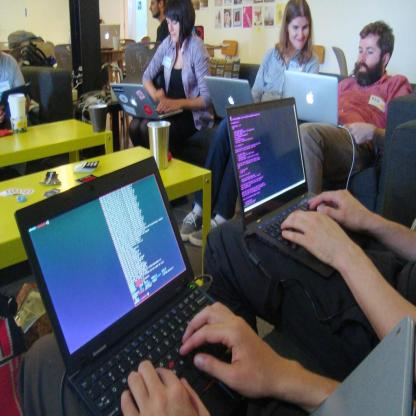board: (20, 141, 240, 416), (224, 96, 369, 280), (283, 72, 345, 127), (110, 84, 183, 121), (204, 77, 255, 119), (147, 117, 172, 170), (7, 90, 30, 132)
